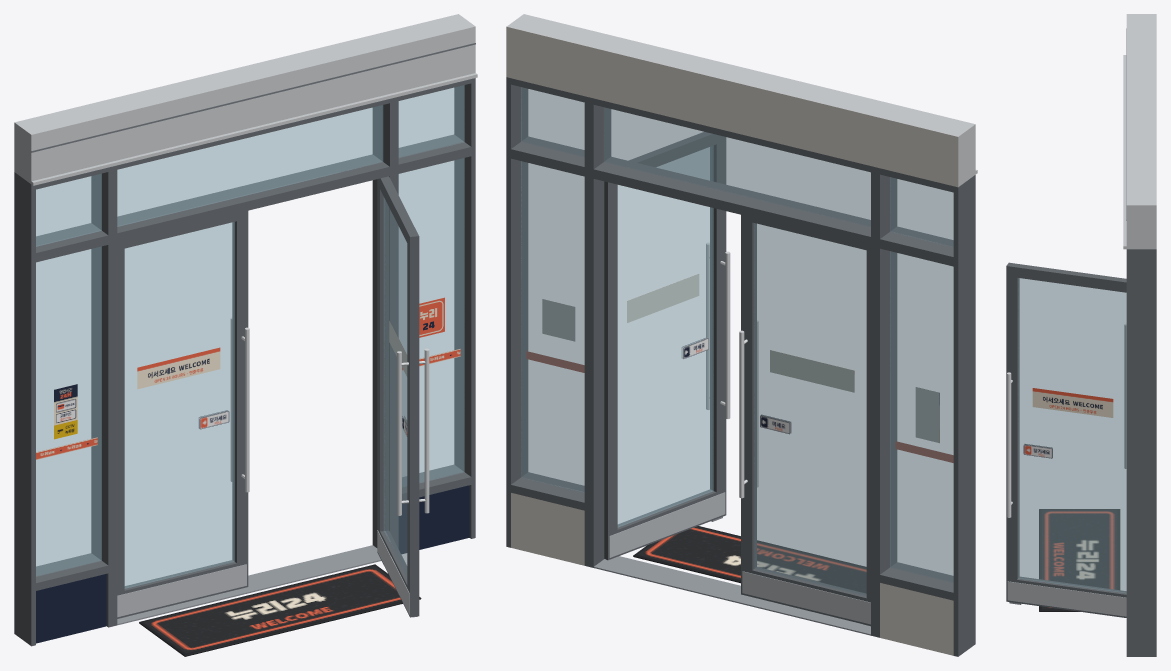
Rendered from SC_Bld_Store_Front_Door_3m_Open.gltf.
The picture shows the model from 3 angles, left to right: view 1: azimuth 30°, elevation 25°; view 2: azimuth 150°, elevation 25°; view 3: azimuth 270°, elevation 25°; orthographic projection. The views are drawn at different scales.
Visible parts, largest first — view 1: SC_Bld_Store_Front_Door_3m_Open; view 2: SC_Bld_Store_Front_Door_3m_Open; view 3: SC_Bld_Store_Front_Door_3m_Open.
Part boxes in pixels (x1,y1,x2,y2): SC_Bld_Store_Front_Door_3m_Open: [14, 14, 477, 656]; SC_Bld_Store_Front_Door_3m_Open: [506, 14, 977, 656]; SC_Bld_Store_Front_Door_3m_Open: [1006, 14, 1156, 656].
Size of the model in its own units: 3 by 3.3 by 0.9962.
3 materials, 3 textured.
